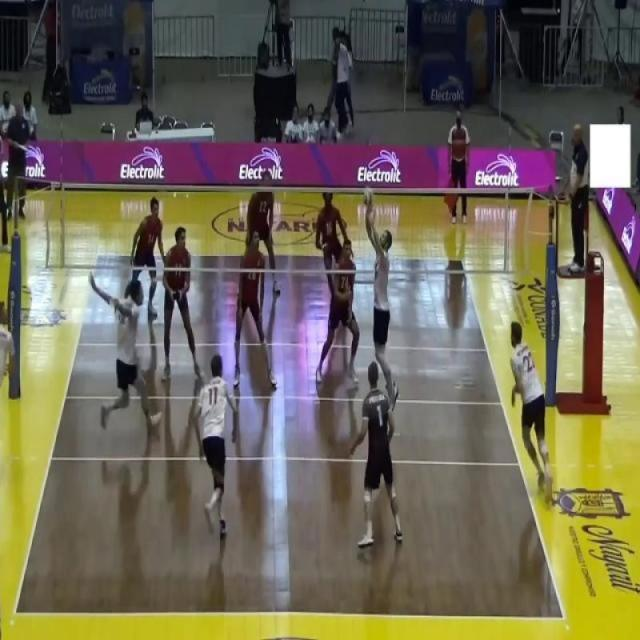volleyball: (363, 185, 374, 208)
